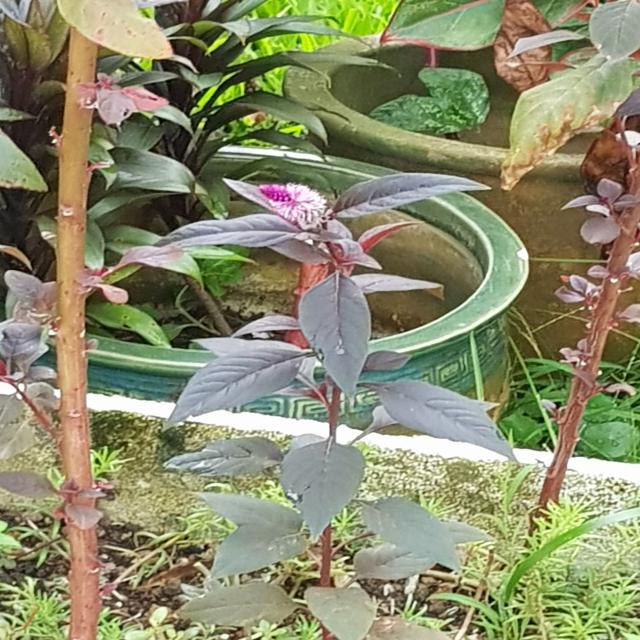Celosia-Argentea: (258, 182, 335, 231)
